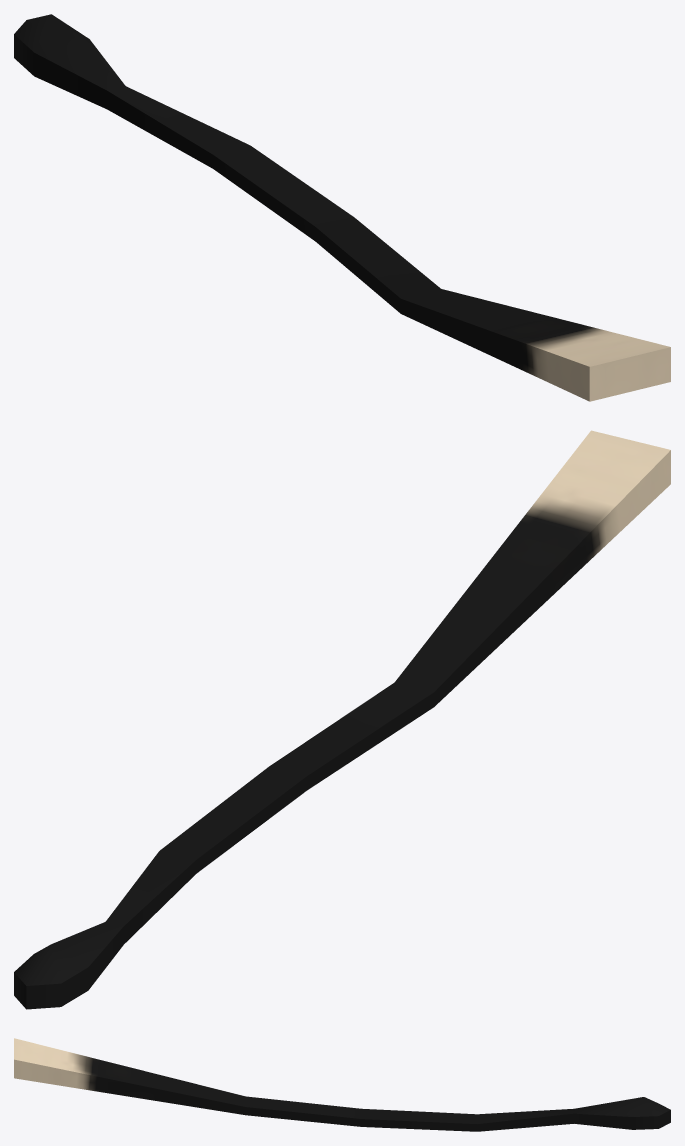
The model's file is MatchBurned_down.fbx.
3 renders of one model, top to bottom at view 1: azimuth 30°, elevation 25°; view 2: azimuth 150°, elevation 25°; view 3: azimuth 270°, elevation 25°, orthographic. The views are drawn at different scales.
Visible parts, largest first — view 1: MatchBurned_down; view 2: MatchBurned_down; view 3: MatchBurned_down.
Boxes of the visible parts, x1,y1,x2,y2 form: MatchBurned_down: [14, 14, 670, 401]; MatchBurned_down: [14, 430, 670, 1009]; MatchBurned_down: [14, 1038, 670, 1131].
Bounding box in the file's own units: 0.2717 × 0.421 × 3.17.
